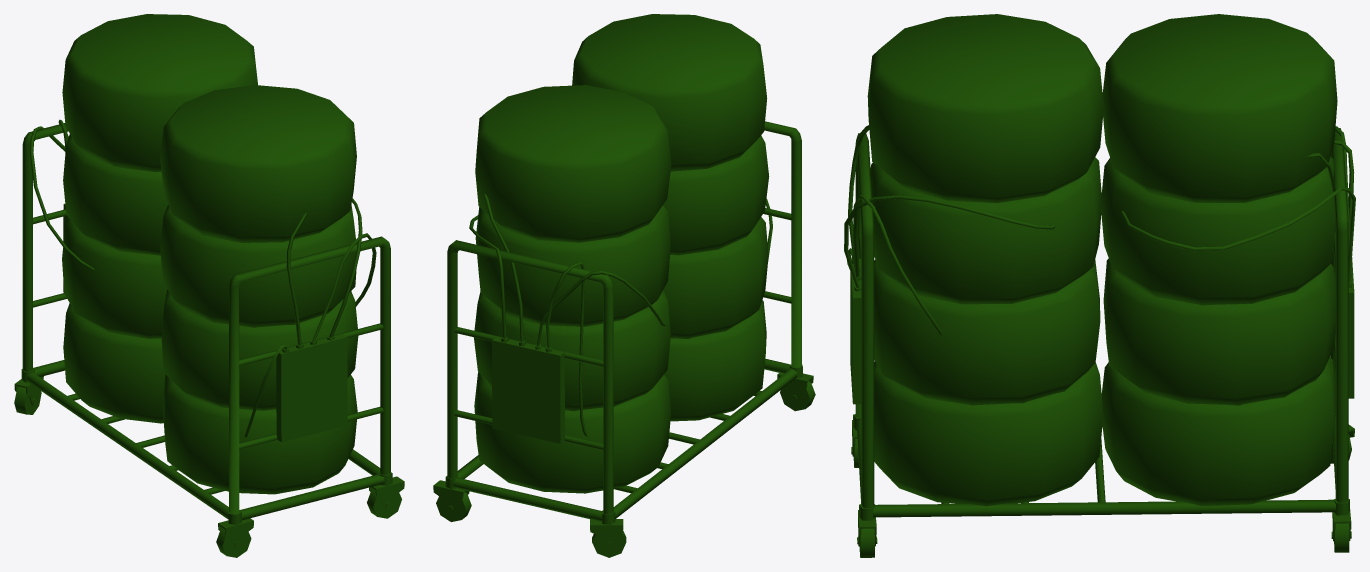
File: Tire_warmers01.fbx
The picture shows the model from 3 angles, left to right: view 1: azimuth 30°, elevation 25°; view 2: azimuth 150°, elevation 25°; view 3: azimuth 270°, elevation 25°; orthographic projection. The views are drawn at different scales.
Parts seen in each view (by area): view 1: Tire_warmers01_Tire_4, Tire_warmers01_troll, Tire_warmers01_Tire_8, Tire_warmers01_Tire_3, Tire_warmers01_Tire_1, Tire_warmers01_Tire_2, Tire_warmers01_Tire_6, Tire_warmers01_Tire_5, Tire_warmers01_Tire_7, Tire_warmers01_trollWires, Tire_warmers01_Wheel_2, Tire_warmers01_Wheel_4 (+1 smaller); view 2: Tire_warmers01_Tire_8, Tire_warmers01_troll, Tire_warmers01_Tire_4, Tire_warmers01_Tire_7, Tire_warmers01_Tire_5, Tire_warmers01_Tire_6, Tire_warmers01_Tire_2, Tire_warmers01_Tire_3, Tire_warmers01_Tire_1, Tire_warmers01_trollWires, Tire_warmers01_Wheel_1, Tire_warmers01_Wheel_3 (+1 smaller); view 3: Tire_warmers01_Tire_4, Tire_warmers01_Tire_8, Tire_warmers01_Tire_5, Tire_warmers01_Tire_6, Tire_warmers01_Tire_1, Tire_warmers01_Tire_7, Tire_warmers01_Tire_2, Tire_warmers01_Tire_3, Tire_warmers01_troll, Tire_warmers01_trollWires, Tire_warmers01_Wheel_3, Tire_warmers01_Wheel_4.
Boxes of the visible parts, left/top/right/bottom form: Tire_warmers01_Tire_4: left=160, top=85, right=356, bottom=242; Tire_warmers01_troll: left=22, top=123, right=390, bottom=520; Tire_warmers01_Tire_8: left=62, top=14, right=257, bottom=171; Tire_warmers01_Tire_3: left=160, top=204, right=356, bottom=327; Tire_warmers01_Tire_1: left=162, top=374, right=357, bottom=494; Tire_warmers01_Tire_2: left=161, top=289, right=358, bottom=410; Tire_warmers01_Tire_6: left=62, top=219, right=167, bottom=338; Tire_warmers01_Tire_5: left=63, top=303, right=165, bottom=423; Tire_warmers01_Tire_7: left=63, top=134, right=168, bottom=255; Tire_warmers01_trollWires: left=30, top=119, right=376, bottom=437; Tire_warmers01_Wheel_2: left=216, top=511, right=253, bottom=557; Tire_warmers01_Wheel_4: left=367, top=471, right=404, bottom=518; Tire_warmers01_Tire_8: left=475, top=85, right=671, bottom=242; Tire_warmers01_troll: left=447, top=121, right=801, bottom=521; Tire_warmers01_Tire_4: left=572, top=14, right=767, bottom=171; Tire_warmers01_Tire_7: left=475, top=205, right=670, bottom=326; Tire_warmers01_Tire_5: left=474, top=372, right=671, bottom=493; Tire_warmers01_Tire_6: left=474, top=289, right=670, bottom=411; Tire_warmers01_Tire_2: left=664, top=217, right=768, bottom=338; Tire_warmers01_Tire_3: left=663, top=135, right=769, bottom=255; Tire_warmers01_Tire_1: left=664, top=300, right=766, bottom=421; Tire_warmers01_trollWires: left=469, top=191, right=772, bottom=436; Tire_warmers01_Wheel_1: left=590, top=510, right=626, bottom=557; Tire_warmers01_Wheel_3: left=433, top=474, right=471, bottom=521; Tire_warmers01_Tire_4: left=867, top=14, right=1103, bottom=203; Tire_warmers01_Tire_8: left=1102, top=14, right=1337, bottom=202; Tire_warmers01_Tire_5: left=1101, top=357, right=1335, bottom=505; Tire_warmers01_Tire_6: left=1103, top=258, right=1335, bottom=405; Tire_warmers01_Tire_1: left=874, top=361, right=1103, bottom=506; Tire_warmers01_Tire_7: left=1101, top=156, right=1335, bottom=305; Tire_warmers01_Tire_2: left=874, top=259, right=1100, bottom=405; Tire_warmers01_Tire_3: left=870, top=157, right=1101, bottom=304; Tire_warmers01_troll: left=850, top=128, right=1354, bottom=517; Tire_warmers01_trollWires: left=844, top=125, right=1355, bottom=335; Tire_warmers01_Wheel_3: left=1331, top=499, right=1351, bottom=552; Tire_warmers01_Wheel_4: left=857, top=504, right=877, bottom=557.
Bounding box in the file's own units: 0.2619 × 0.486 × 0.4967.
